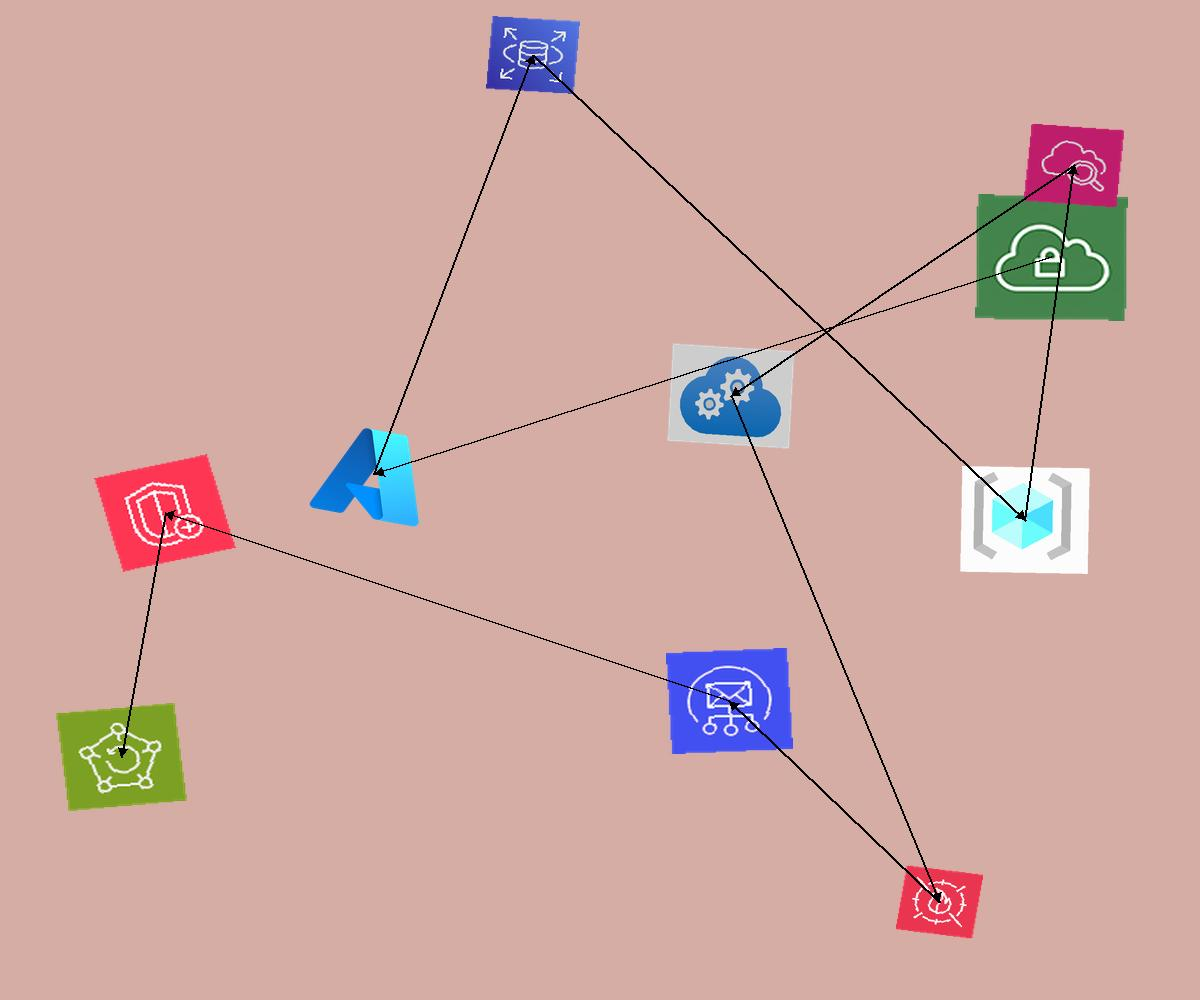AWS-Backup: (55, 702, 188, 812)
AWS-CloudWatch: (1023, 123, 1125, 208)
AWS-Private_vpc: (975, 194, 1128, 321)
AWS-RDS: (486, 16, 580, 94)
AWS-Shield: (94, 454, 236, 572)
AWS-Simple-Email-Service: (666, 648, 793, 754)
AWS-WAF: (895, 865, 984, 939)
Azure_cloud_services: (667, 343, 795, 449)
Azure_resource_group: (960, 466, 1090, 574)
Azure_services: (302, 414, 447, 535)
